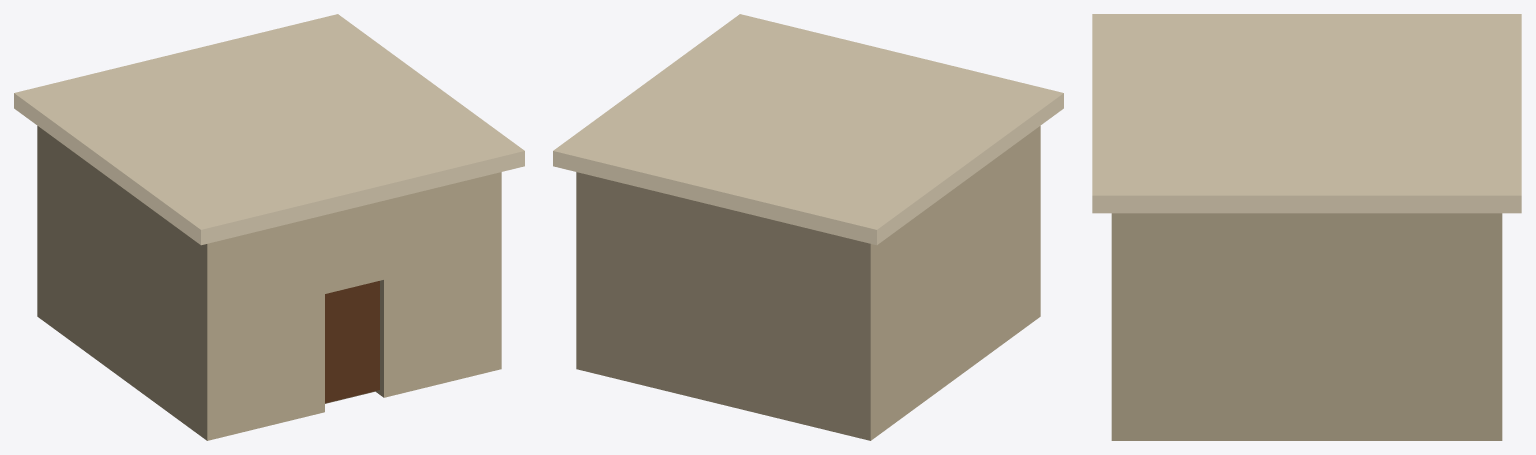
The model's file is house.glb.
3 views of the same model, side by side, from view 1: azimuth 30°, elevation 25°; view 2: azimuth 150°, elevation 25°; view 3: azimuth 270°, elevation 25° (orthographic). The views are drawn at different scales.
Visible parts, largest first — view 1: Walls, Roof, Door; view 2: Walls, Roof; view 3: Walls, Roof.
Part boxes in pixels (x1,y1,x2,y2): Walls: [37, 126, 501, 440]; Roof: [14, 14, 524, 245]; Door: [325, 281, 379, 403]; Walls: [576, 126, 1040, 440]; Roof: [553, 14, 1063, 245]; Walls: [1111, 213, 1502, 440]; Roof: [1092, 14, 1521, 213].
Size of the model in its own units: 6.6 by 4.3 by 6.6.
Materials: 4 (1 with a texture image).
